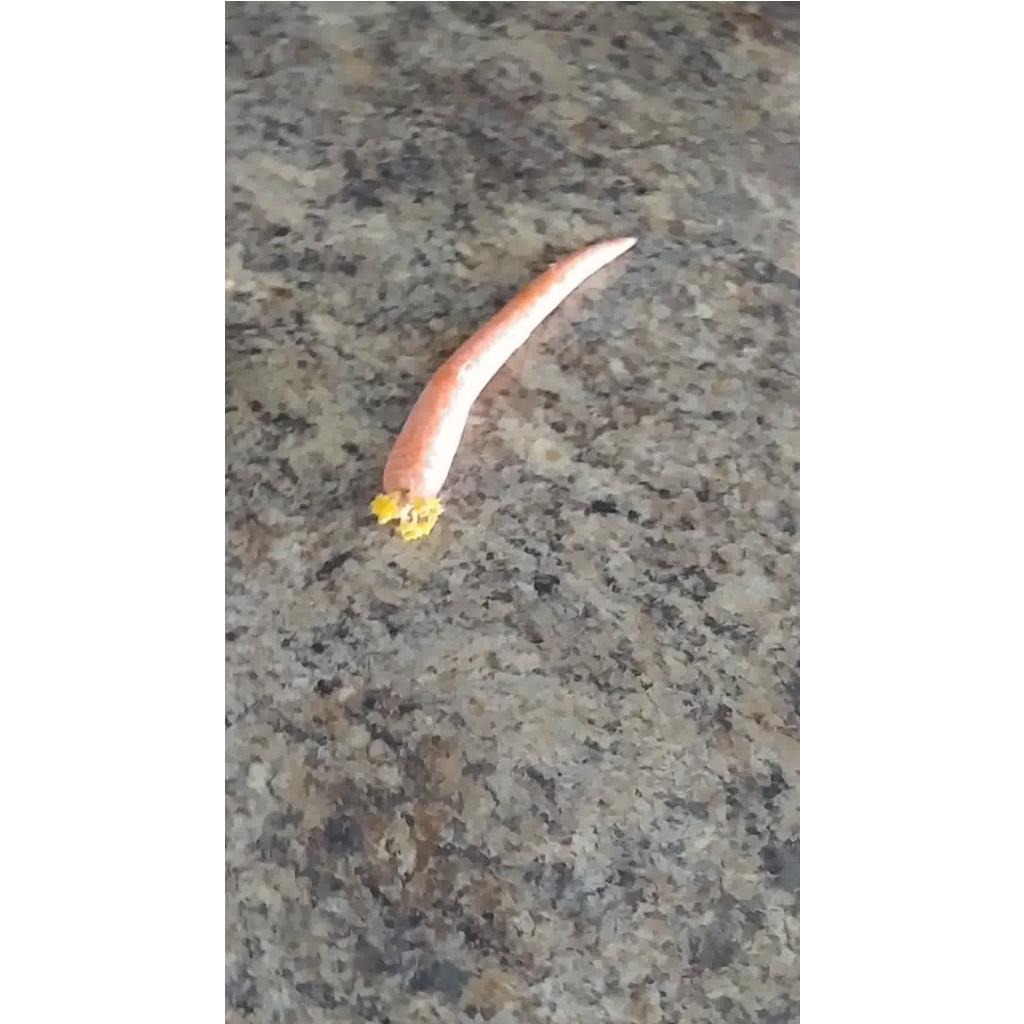carrot: (370, 236, 635, 539)
